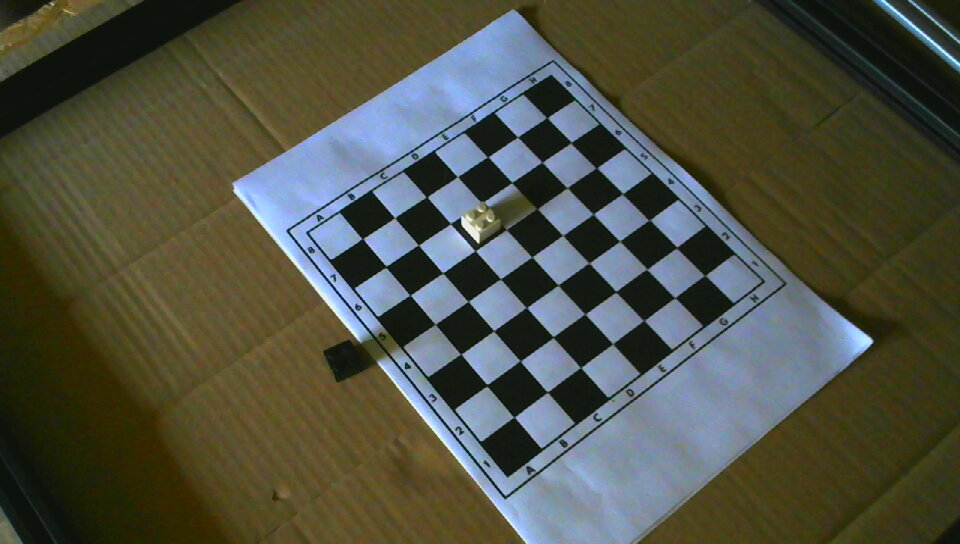bp: (324, 340, 365, 383)
wp: (461, 202, 502, 244)
